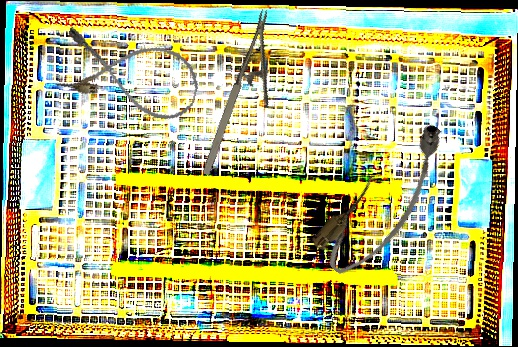Cannula: (306, 115, 468, 285), (53, 22, 206, 126)
Needle Holder: (196, 8, 302, 187)
